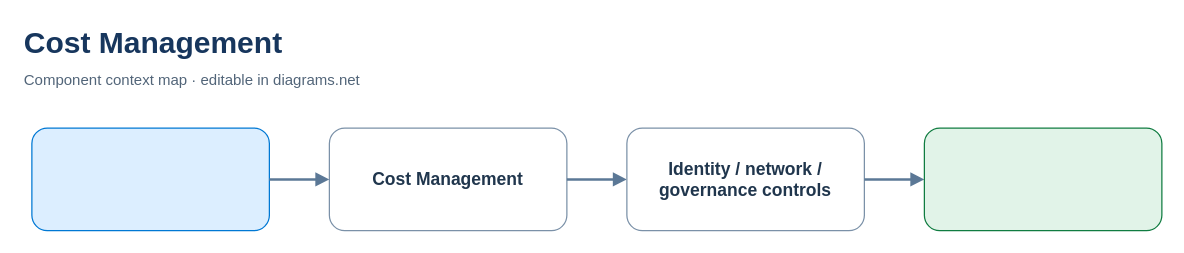
This 1184x253 diagram has some shape labels left out. The shapes that lost their labels are listed below. From the top down, each one's box as (x1, y1, x2, y2) in pixels, then its label:
(31, 127, 269, 231): K · Monitoring, Operations & Cost
(923, 127, 1162, 231): Monitoring / resilience / operations
